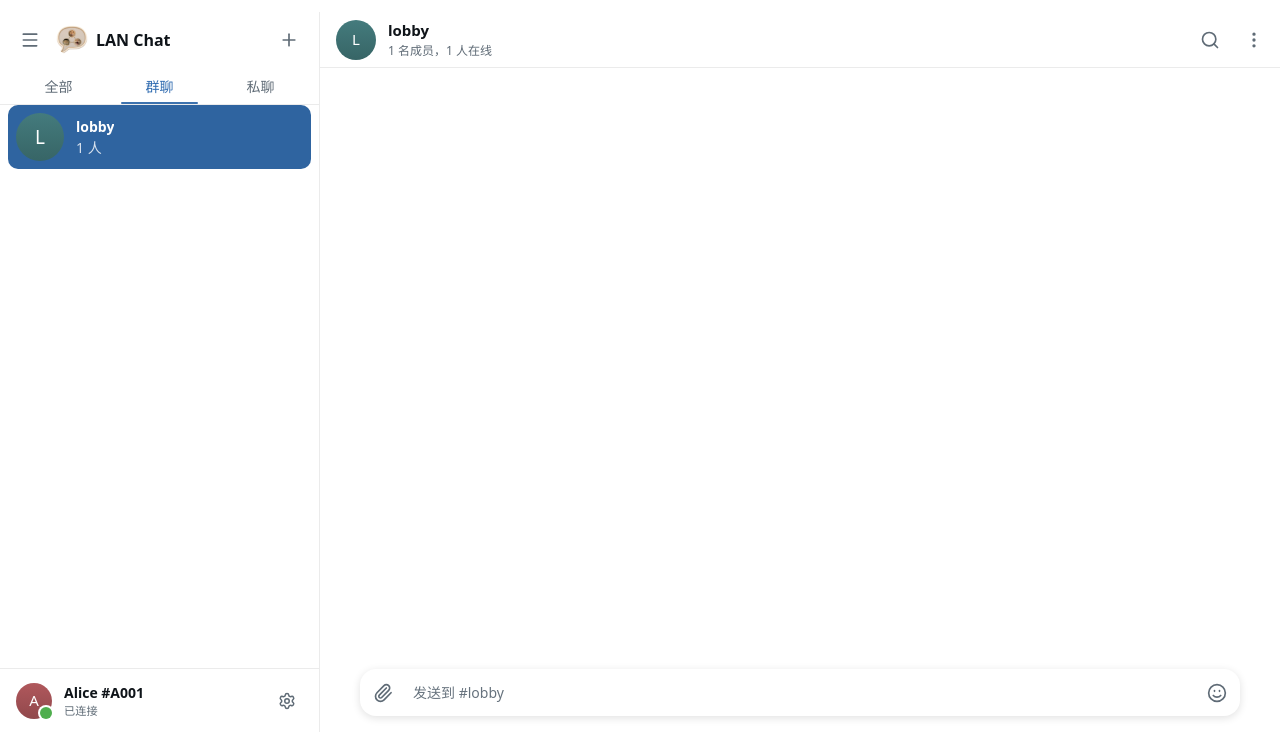
Test: connection recovery › keeps the active workspace and draft through reconnecting until reconnected
The image size is (1280, 732).
Type "draft that must survive" into the text box named "消息输入框" at (800, 692), box [405,674,1195,711]
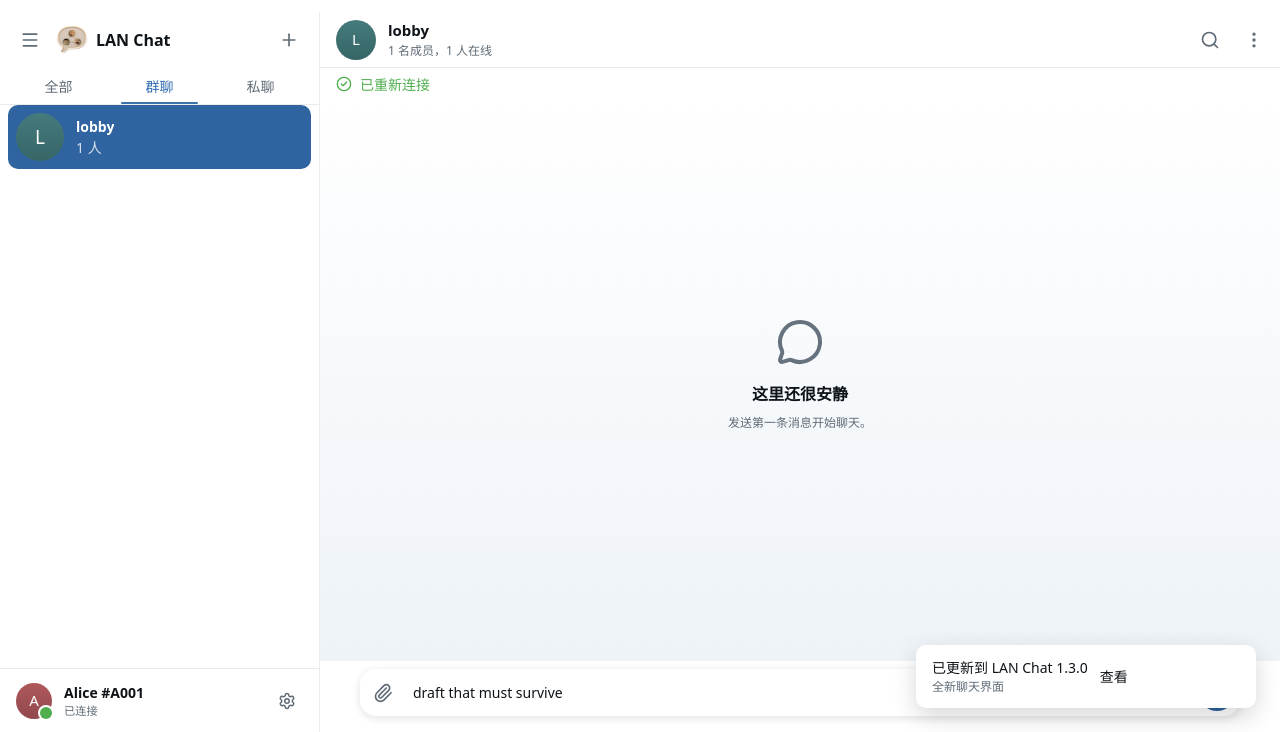
expect the heading named "# lobby" is shown: met, box [388,20,429,40]
expect the text "正在重新连接（第 1 次）" is shown: met, box [360,74,430,94]
